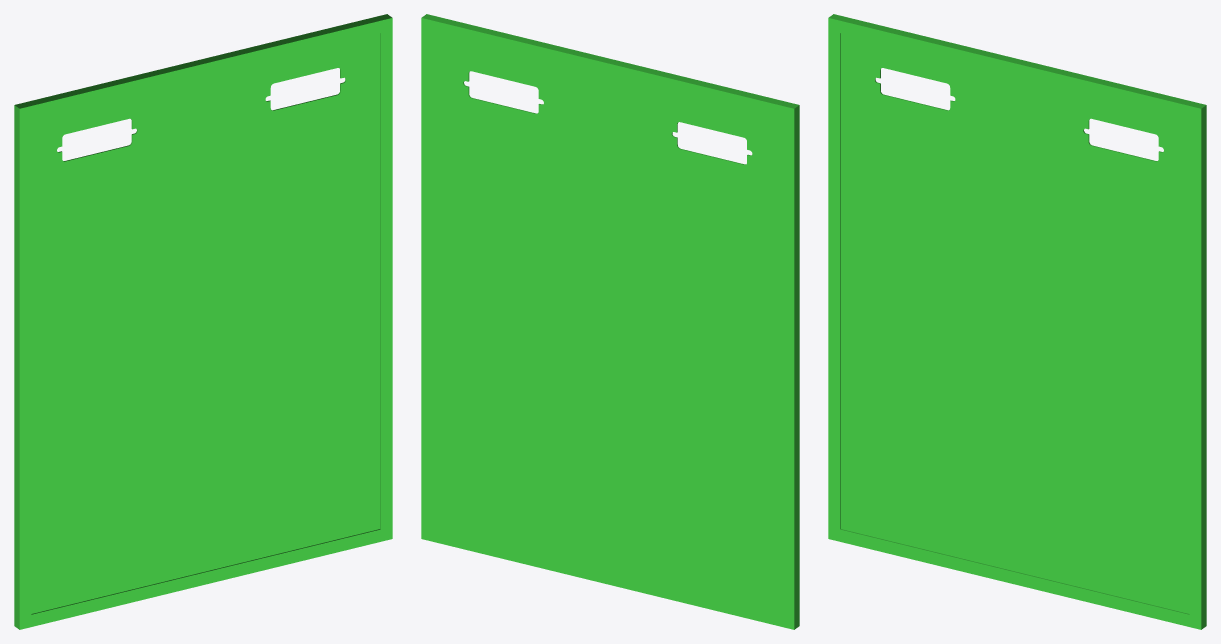
3 renders of one model, left to right at view 1: azimuth 30°, elevation 25°; view 2: azimuth 150°, elevation 25°; view 3: azimuth 330°, elevation 25°, orthographic.
Visible parts, largest first — view 1: 11111; view 2: 11111; view 3: 11111.
Boxes of the visible parts, box(x1,y1,x2,y2) form: 11111: box(14, 14, 392, 629); 11111: box(421, 14, 799, 629); 11111: box(828, 14, 1206, 629).
Bounding box in the file's own units: 52.47 × 70.07 × 1.28.
